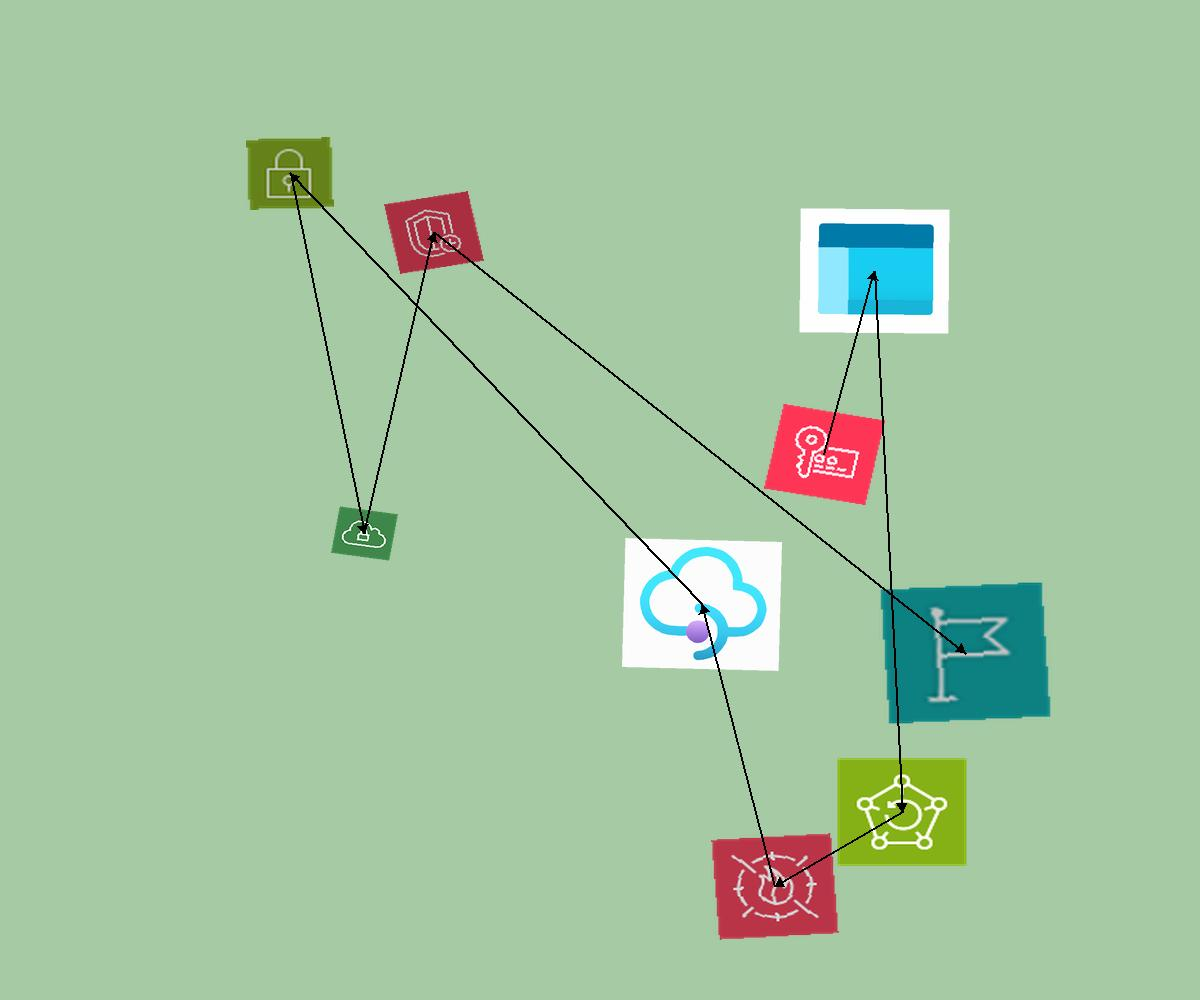AWS-Backup: (836, 757, 968, 867)
AWS-Key-Management-Service: (764, 404, 885, 505)
AWS-Private_vpc: (331, 506, 398, 561)
AWS-Public-subnet: (246, 137, 334, 210)
AWS-Region: (879, 581, 1052, 725)
AWS-Shield: (384, 191, 484, 274)
AWS-WAF: (711, 833, 839, 940)
Azure_api_gateway: (622, 538, 782, 671)
Azure_management-portal: (799, 208, 950, 334)
